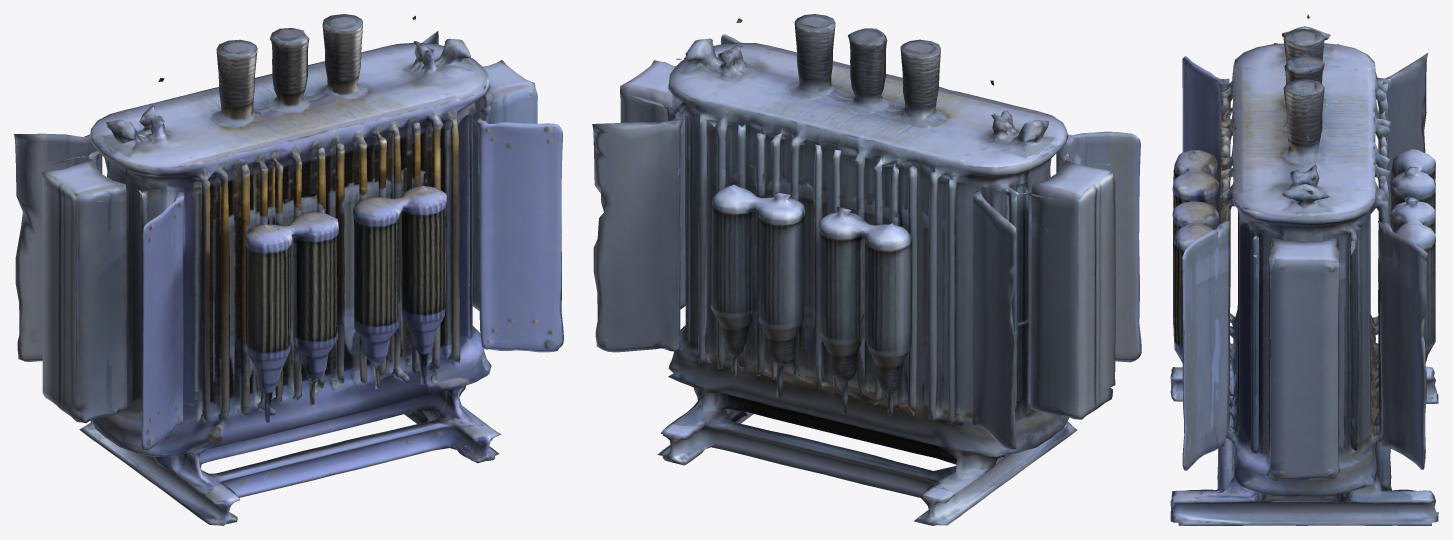
The model's file is transformer.glb.
3 renders of one model, left to right at view 1: azimuth 30°, elevation 25°; view 2: azimuth 150°, elevation 25°; view 3: azimuth 270°, elevation 25°, orthographic. The views are drawn at different scales.
Size of the model in its own units: 1.98 by 1.68 by 1.02.
1 material, 1 textured.
